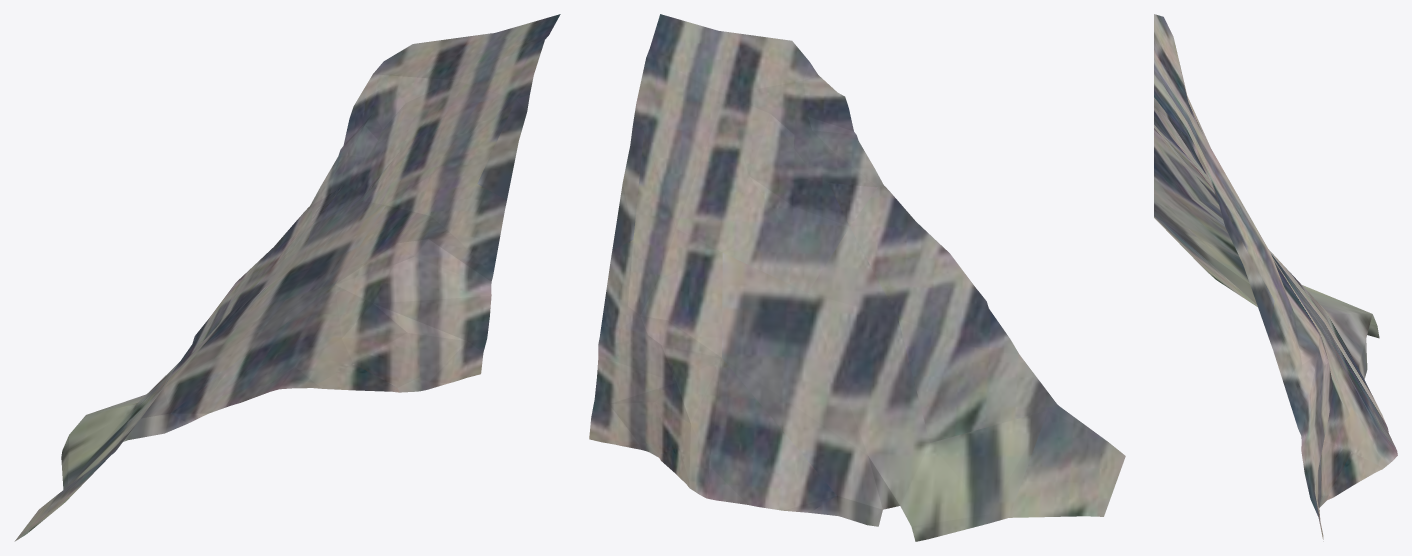
File: Tile_+002_+007_L21_0001100.glb
3 renders of one model, left to right at view 1: azimuth 30°, elevation 25°; view 2: azimuth 150°, elevation 25°; view 3: azimuth 270°, elevation 25°, orthographic. The views are drawn at different scales.
Parts seen in each view (by area): view 1: rtc; view 2: rtc; view 3: rtc.
Part boxes in pixels (left/top/right/bottom): rtc: left=14, top=14, right=560, bottom=541; rtc: left=589, top=14, right=1125, bottom=541; rtc: left=1154, top=14, right=1397, bottom=541.
Bounding box in the file's own units: 25.13 × 19.53 × 9.56.
Materials: 1 (1 with a texture image).
